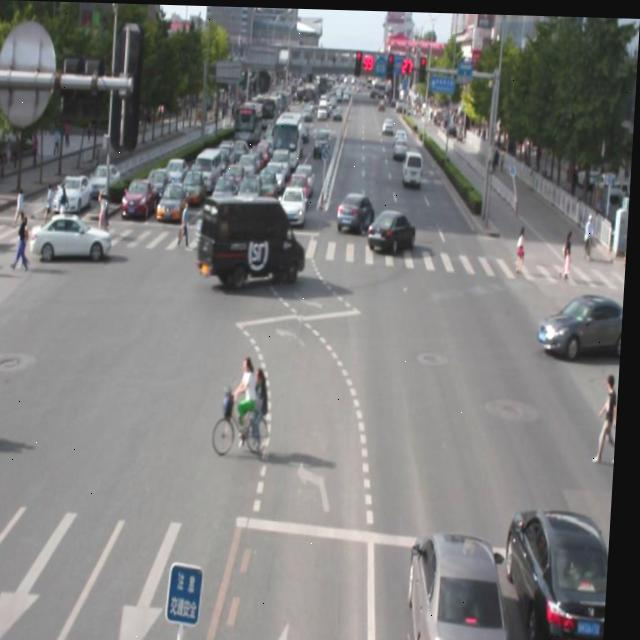car: (506, 505, 617, 640), (412, 526, 517, 640), (230, 206, 293, 255), (369, 204, 419, 251)
truck: (197, 190, 312, 287)
